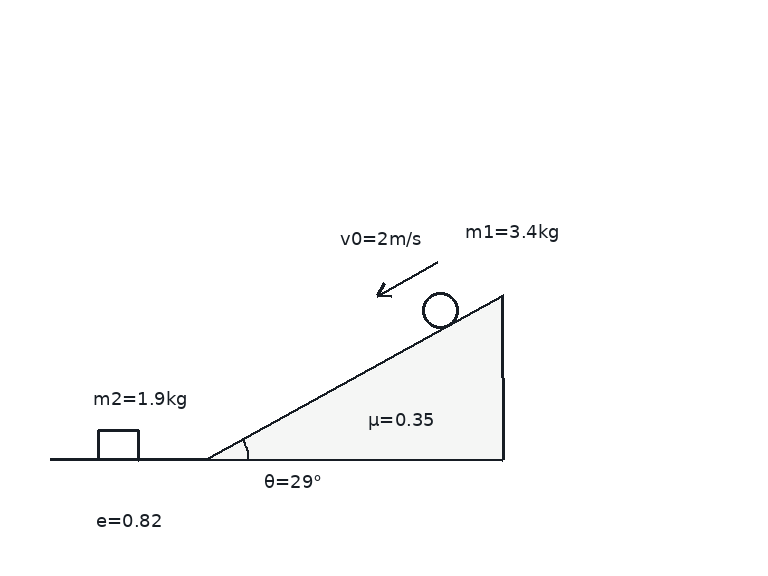ball: (420, 290, 460, 330)
block: (96, 428, 140, 461)
ramp: (206, 294, 505, 461)
